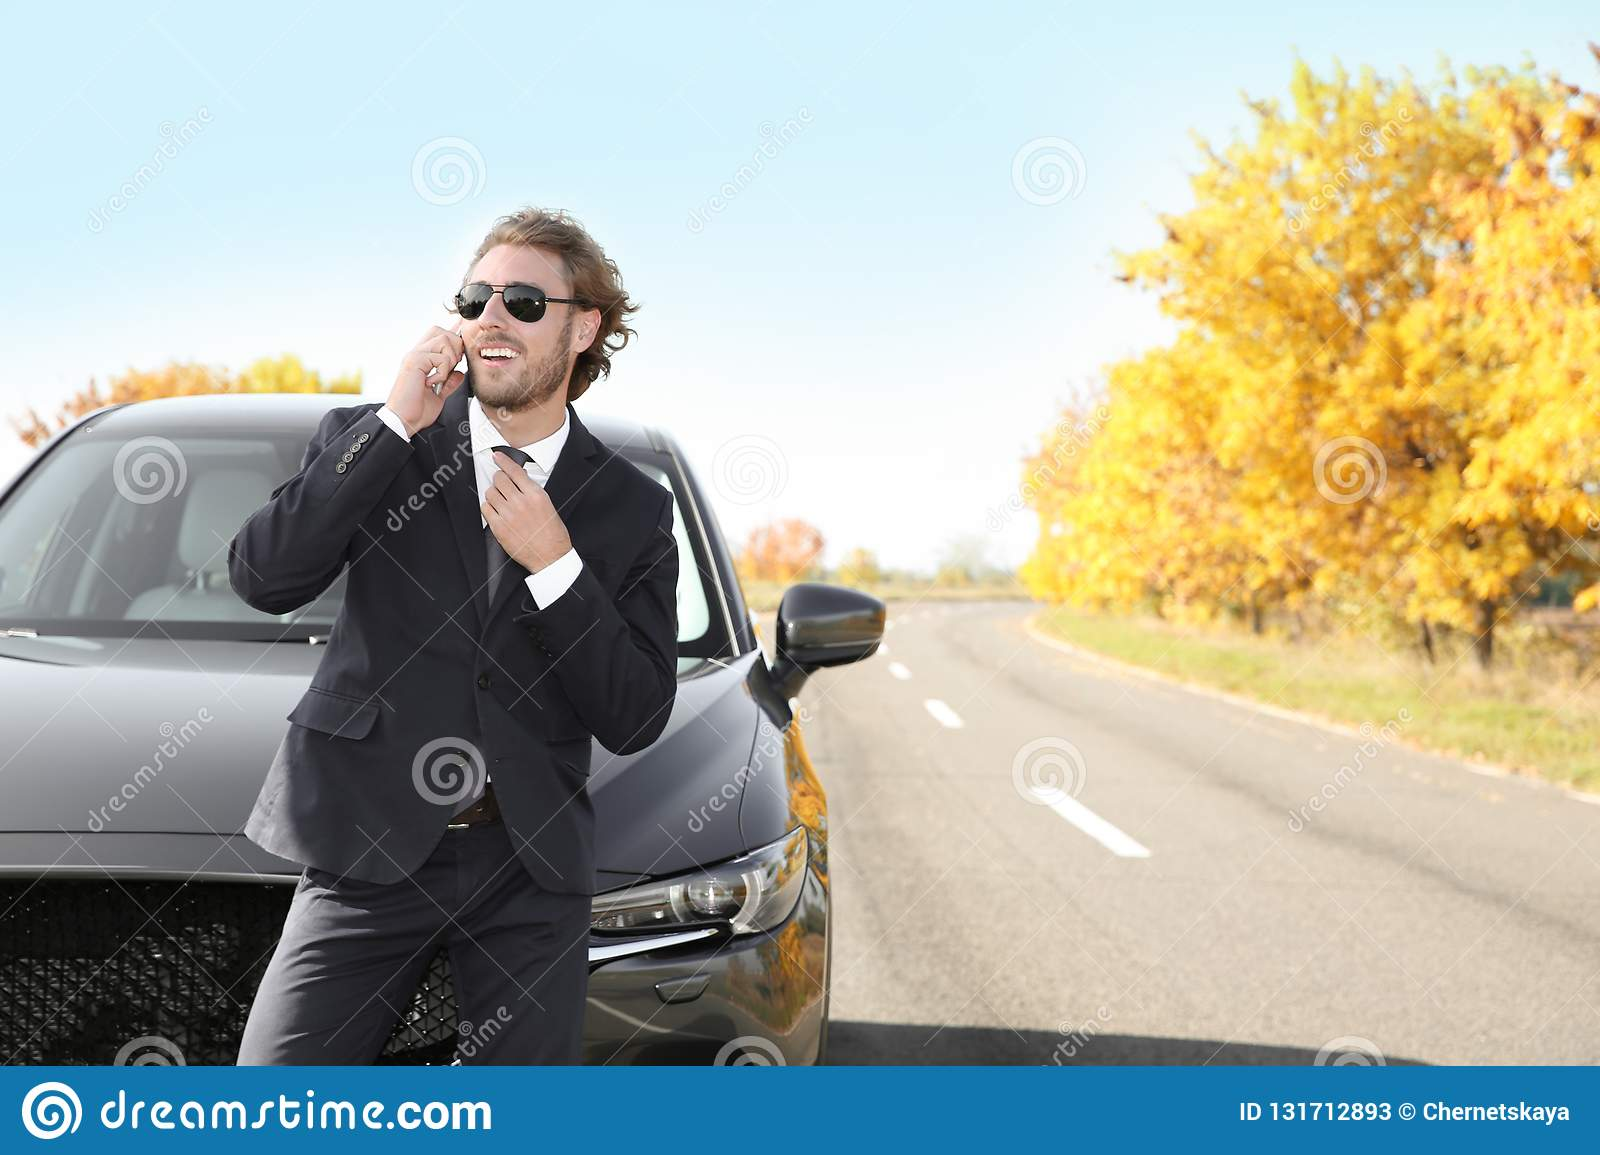phone: (432, 313, 465, 392)
talk: (388, 278, 553, 437)
